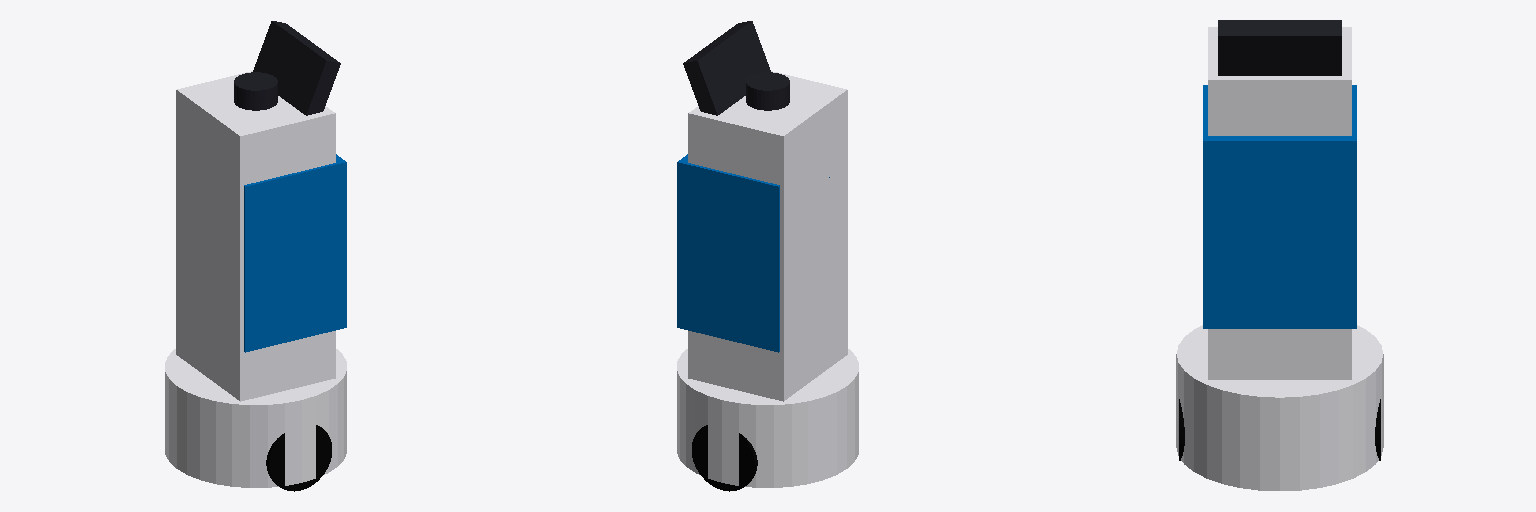
URDF robot description (hospital_logistics_robot):
<?xml version="1.0"?>
<robot name="hospital_logistics_robot">

  <!-- ==================== MATERIALES ==================== -->
  <material name="White">
    <color rgba="0.95 0.95 0.97 1.0"/>
  </material>
  <material name="BlueMedical">
    <color rgba="0.0 0.45 0.75 1.0"/>
  </material>
  <material name="DarkMetal">
    <color rgba="0.15 0.15 0.18 1.0"/>
  </material>
  <material name="BlackRubber">
    <color rgba="0.05 0.05 0.05 1.0"/>
  </material>
  <material name="LightGrey">
    <color rgba="0.8 0.8 0.8 1.0"/>
  </material>
  <material name="Screen">
    <color rgba="0.0 0.0 0.0 1.0"/>
  </material>
  <material name="LED_Green">
    <color rgba="0.0 1.0 0.2 1.0"/>
  </material>

  <!-- ==================== BASE FOOTPRINT ==================== -->
  <link name="base_footprint"/>

  <!-- ==================== CHASIS BASE (Cilíndrico estilizado) ==================== -->
  <link name="base_link">
    <visual>
      <geometry>
        <cylinder radius="0.25" length="0.25"/>
      </geometry>
      <origin xyz="0 0 0" rpy="0 0 0"/>
      <material name="White"/>
    </visual>
    <collision>
      <geometry>
        <cylinder radius="0.25" length="0.25"/>
      </geometry>
      <origin xyz="0 0 0" rpy="0 0 0"/>
    </collision>
    <inertial>
      <mass value="25.0"/>
      <origin xyz="0 0 0" rpy="0 0 0"/>
      <inertia ixx="0.5" ixy="0" ixz="0" iyy="0.5" iyz="0" izz="0.8"/>
    </inertial>
  </link>

  <joint name="base_joint" type="fixed">
    <parent link="base_footprint"/>
    <child link="base_link"/>
    <origin xyz="0 0 0.15" rpy="0 0 0"/>
  </joint>

  <!-- ==================== CUERPO CENTRAL (TORSO) ==================== -->
  <link name="torso">
    <visual>
      <geometry>
        <box size="0.3 0.35 0.8"/>
      </geometry>
      <origin xyz="0 0 0.4" rpy="0 0 0"/>
      <material name="White"/>
    </visual>
    <collision>
      <geometry>
        <box size="0.3 0.35 0.8"/>
      </geometry>
      <origin xyz="0 0 0.4" rpy="0 0 0"/>
    </collision>
    <inertial>
      <mass value="10.0"/>
      <origin xyz="0 0 0.4" rpy="0 0 0"/>
      <inertia ixx="0.6" ixy="0" ixz="0" iyy="0.6" iyz="0" izz="0.2"/>
    </inertial>
  </link>

  <joint name="torso_joint" type="fixed">
    <parent link="base_link"/>
    <child link="torso"/>
    <origin xyz="0 0 0.125" rpy="0 0 0"/>
  </joint>

  <!-- ==================== COMPARTIMENTO DE CARGA (Acento azul) ==================== -->
  <link name="cargo_box">
    <visual>
      <geometry>
        <box size="0.32 0.37 0.5"/>
      </geometry>
      <origin xyz="0.02 0 0.3" rpy="0 0 0"/>
      <material name="BlueMedical"/>
    </visual>
  </link>

  <joint name="cargo_joint" type="fixed">
    <parent link="torso"/>
    <child link="cargo_box"/>
    <origin xyz="0 0 0.1" rpy="0 0 0"/>
  </joint>

  <!-- ==================== CABEZA / PANTALLA ==================== -->
  <link name="head">
    <visual>
      <geometry>
        <box size="0.05 0.3 0.2"/>
      </geometry>
      <origin xyz="0 0 0" rpy="0 0.4 0"/>
      <material name="DarkMetal"/>
    </visual>
  </link>

  <joint name="head_joint" type="fixed">
    <parent link="torso"/>
    <child link="head"/>
    <origin xyz="0.12 0 0.85" rpy="0 0 0"/>
  </joint>

  <link name="screen">
    <visual>
      <geometry>
        <box size="0.01 0.26 0.16"/>
      </geometry>
      <origin xyz="0 0 0" rpy="0 0.4 0"/>
      <material name="Screen"/>
    </visual>
  </link>

  <joint name="screen_joint" type="fixed">
    <parent link="head"/>
    <child link="screen"/>
    <origin xyz="0.021 0 0" rpy="0 0 0"/>
  </joint>

  <!-- ==================== SENSOR LIDAR (En la parte superior) ==================== -->
  <link name="lidar">
    <visual>
      <geometry>
        <cylinder radius="0.06" length="0.06"/>
      </geometry>
      <origin xyz="0 0 0" rpy="0 0 0"/>
      <material name="DarkMetal"/>
    </visual>
    <collision>
      <geometry>
        <cylinder radius="0.06" length="0.06"/>
      </geometry>
    </collision>
    <inertial>
      <mass value="0.2"/>
      <origin xyz="0 0 0" rpy="0 0 0"/>
      <inertia ixx="0.0001" ixy="0" ixz="0" iyy="0.0001" iyz="0" izz="0.0001"/>
    </inertial>
  </link>
  <joint name="lidar_joint" type="fixed">
    <parent link="torso"/>
    <child link="lidar"/>
    <origin xyz="0 0 0.83" rpy="0 0 0"/>
  </joint>

  <!-- ==================== RUEDAS ==================== -->
  <!-- Rueda derecha -->
  <link name="wheel_right">
    <visual>
      <geometry>
        <cylinder radius="0.1" length="0.05"/>
      </geometry>
      <origin xyz="0 0 0" rpy="1.5708 0 0"/>
      <material name="BlackRubber"/>
    </visual>
    <collision>
      <geometry>
        <cylinder radius="0.1" length="0.05"/>
      </geometry>
      <origin xyz="0 0 0" rpy="1.5708 0 0"/>
    </collision>
    <inertial>
      <mass value="2.0"/>
      <origin xyz="0 0 0" rpy="0 0 0"/>
      <inertia ixx="0.01" ixy="0" ixz="0" iyy="0.01" iyz="0" izz="0.02"/>
    </inertial>
  </link>

  <joint name="wheel_right_joint" type="continuous">
    <parent link="base_link"/>
    <child link="wheel_right"/>
    <origin xyz="0 -0.22 -0.05" rpy="0 0 0"/>
    <axis xyz="0 1 0"/>
  </joint>

  <!-- Rueda izquierda -->
  <link name="wheel_left">
    <visual>
      <geometry>
        <cylinder radius="0.1" length="0.05"/>
      </geometry>
      <origin xyz="0 0 0" rpy="1.5708 0 0"/>
      <material name="BlackRubber"/>
    </visual>
    <collision>
      <geometry>
        <cylinder radius="0.1" length="0.05"/>
      </geometry>
      <origin xyz="0 0 0" rpy="1.5708 0 0"/>
    </collision>
    <inertial>
      <mass value="2.0"/>
      <origin xyz="0 0 0" rpy="0 0 0"/>
      <inertia ixx="0.01" ixy="0" ixz="0" iyy="0.01" iyz="0" izz="0.02"/>
    </inertial>
  </link>

  <joint name="wheel_left_joint" type="continuous">
    <parent link="base_link"/>
    <child link="wheel_left"/>
    <origin xyz="0 0.22 -0.05" rpy="0 0 0"/>
    <axis xyz="0 1 0"/>
  </joint>

  <!-- RUEDAS LOCAS -->
  <link name="caster_front">
    <visual>
      <geometry>
        <sphere radius="0.05"/>
      </geometry>
      <origin xyz="0 0 0" rpy="0 0 0"/>
      <material name="LightGrey"/>
    </visual>
    <collision>
      <geometry>
        <sphere radius="0.05"/>
      </geometry>
    </collision>
  </link>
  <joint name="caster_front_joint" type="fixed">
    <parent link="base_link"/>
    <child link="caster_front"/>
    <origin xyz="0.18 0 -0.1" rpy="0 0 0"/>
  </joint>

  <link name="caster_rear">
    <visual>
      <geometry>
        <sphere radius="0.05"/>
      </geometry>
      <origin xyz="0 0 0" rpy="0 0 0"/>
      <material name="LightGrey"/>
    </visual>
    <collision>
      <geometry>
        <sphere radius="0.05"/>
      </geometry>
    </collision>
  </link>
  <joint name="caster_rear_joint" type="fixed">
    <parent link="base_link"/>
    <child link="caster_rear"/>
    <origin xyz="-0.18 0 -0.1" rpy="0 0 0"/>
  </joint>

  <!-- ==================== GAZEBO PLUGINS ==================== -->
  <gazebo reference="base_link">
    <material>Gazebo/White</material>
  </gazebo>
  <gazebo reference="torso">
    <material>Gazebo/White</material>
  </gazebo>
  <gazebo reference="cargo_box">
    <material>Gazebo/Blue</material>
  </gazebo>
  <gazebo reference="screen">
    <material>Gazebo/Black</material>
  </gazebo>

  <gazebo>
    <plugin name="diff_drive" filename="libgazebo_ros_diff_drive.so">
      <ros>
        <namespace>/</namespace>
      </ros>
      <updateRate>50</updateRate>
      <leftJoint>wheel_left_joint</leftJoint>
      <rightJoint>wheel_right_joint</rightJoint>
      <wheelSeparation>0.44</wheelSeparation>
      <wheelDiameter>0.2</wheelDiameter>
      <max_wheel_torque>20</max_wheel_torque>
      <max_wheel_acceleration>1.0</max_wheel_acceleration>
      <commandTopic>cmd_vel</commandTopic>
      <odometryTopic>odom</odometryTopic>
      <odometryFrame>odom</odometryFrame>
      <robotBaseFrame>base_footprint</robotBaseFrame>
      <publish_odom>true</publish_odom>
      <publish_odom_tf>true</publish_odom_tf>
      <publish_wheel_tf>true</publish_wheel_tf>
    </plugin>
  </gazebo>

  <gazebo reference="lidar">
    <sensor type="ray" name="lidar_sensor">
      <pose>0 0 0 0 0 0</pose>
      <visualize>false</visualize>
      <update_rate>40</update_rate>
      <ray>
        <scan>
          <horizontal>
            <samples>360</samples>
            <resolution>1</resolution>
            <min_angle>-3.14159</min_angle>
            <max_angle>3.14159</max_angle>
          </horizontal>
        </scan>
        <range>
          <min>0.12</min>
          <max>12.0</max>
          <resolution>0.01</resolution>
        </range>
      </ray>
      <plugin name="gazebo_ros_ray_sensor" filename="libgazebo_ros_ray_sensor.so">
        <ros>
          <remapping>~/out:=scan</remapping>
        </ros>
        <output_type>sensor_msgs/LaserScan</output_type>
        <frame_name>lidar</frame_name>
      </plugin>
    </sensor>
  </gazebo>

</robot>

--- Render facts (derived) ---
3 views of the same robot in one strip: view 1: azimuth 30°, elevation 25°; view 2: azimuth 150°, elevation 25°; view 3: azimuth 270°, elevation 25° (orthographic).
Robot: hospital_logistics_robot — 11 links, 10 joints (2 continuous, 8 fixed); root link base_footprint; default pose: all joints at 0.
Links seen in each view (by area): view 1: torso, cargo_box, base_link, head, wheel_right, lidar; view 2: torso, cargo_box, base_link, head, wheel_left, lidar; view 3: cargo_box, base_link, torso, head.
Boxes of the visible links, x1,y1,x2,y2 form: torso: (176, 71, 335, 401); cargo_box: (244, 154, 346, 352); base_link: (165, 349, 346, 487); head: (253, 21, 340, 115); wheel_right: (266, 425, 331, 491); lidar: (234, 72, 277, 110); torso: (688, 71, 847, 401); cargo_box: (677, 154, 829, 352); base_link: (677, 349, 858, 487); head: (683, 21, 770, 115); wheel_left: (692, 425, 757, 491); lidar: (746, 72, 789, 110); cargo_box: (1203, 85, 1356, 328); base_link: (1176, 325, 1383, 490); torso: (1208, 27, 1351, 379); head: (1218, 20, 1341, 75).
Bounding box of the posed robot: 0.5 × 0.5 × 1.23 m (x, y, z).
Geometry: primitives only (box / cylinder / sphere), no mesh files.
